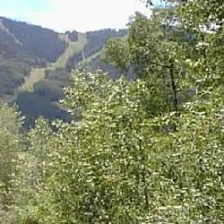neutral: (3, 3, 222, 224)
